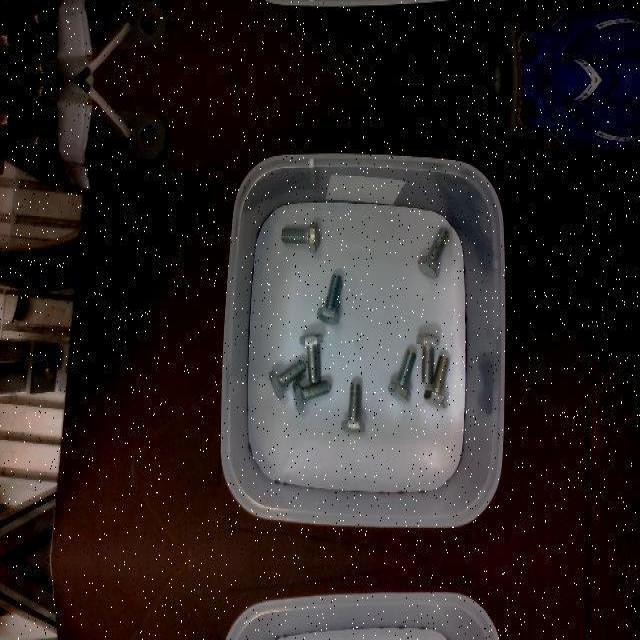screw: (417, 226, 449, 278), (387, 348, 416, 402), (269, 359, 306, 401), (340, 381, 366, 435), (424, 355, 450, 409), (292, 379, 331, 413), (317, 273, 343, 323), (416, 332, 440, 384), (300, 332, 323, 382), (282, 221, 320, 251)
